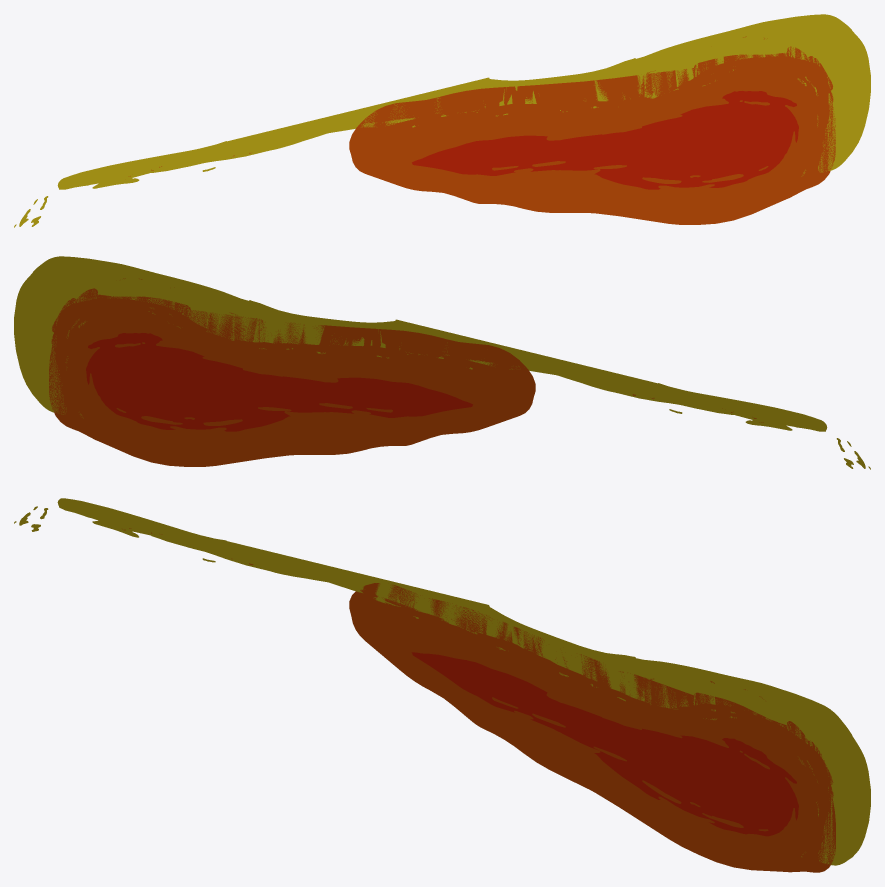
3 views of the same model, one above another, from view 1: azimuth 30°, elevation 25°; view 2: azimuth 150°, elevation 25°; view 3: azimuth 330°, elevation 25° (orthographic).
Parts seen in each view (by area): view 1: Mesh_3; view 2: Mesh_3; view 3: Mesh_3.
Part boxes in pixels (box(x1,y1,x2,y2)): Mesh_3: box(14, 14, 870, 227); Mesh_3: box(14, 256, 870, 469); Mesh_3: box(14, 498, 870, 872).
Bounding box in the file's own units: 1341 × 310 × 0.
